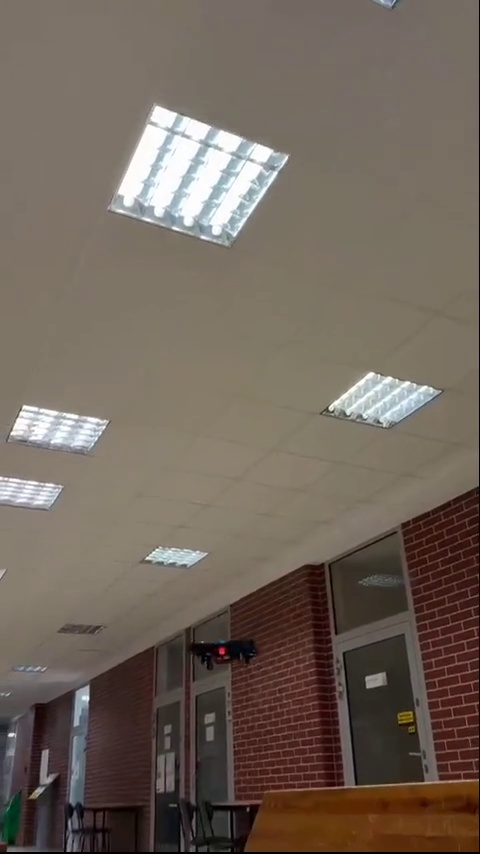drone: (188, 626, 259, 667)
